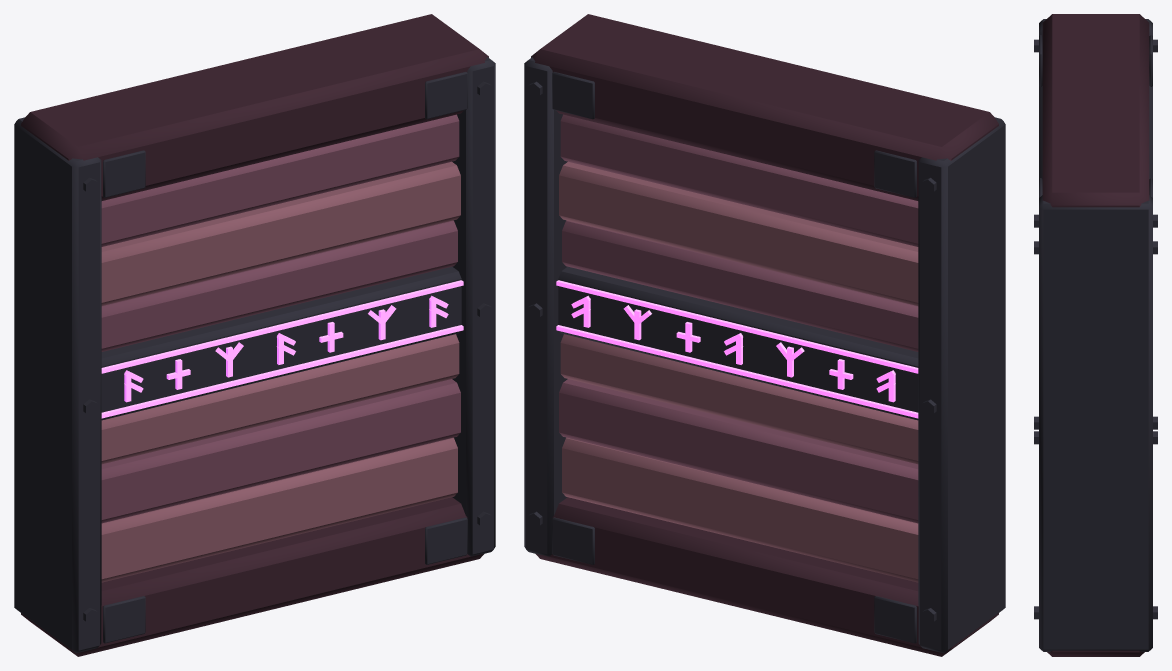
The model's file is slider_wall.glb.
3 renders of one model, left to right at view 1: azimuth 30°, elevation 25°; view 2: azimuth 150°, elevation 25°; view 3: azimuth 270°, elevation 25°, orthographic. The views are drawn at different scales.
Parts seen in each view (by area): view 1: body; view 2: body; view 3: body.
Boxes of the visible parts, x1,y1,x2,y2 form: body: (14, 14, 495, 656); body: (524, 14, 1005, 656); body: (1034, 14, 1157, 656).
Size of the model in its own units: 1 by 1.15 by 0.278.
